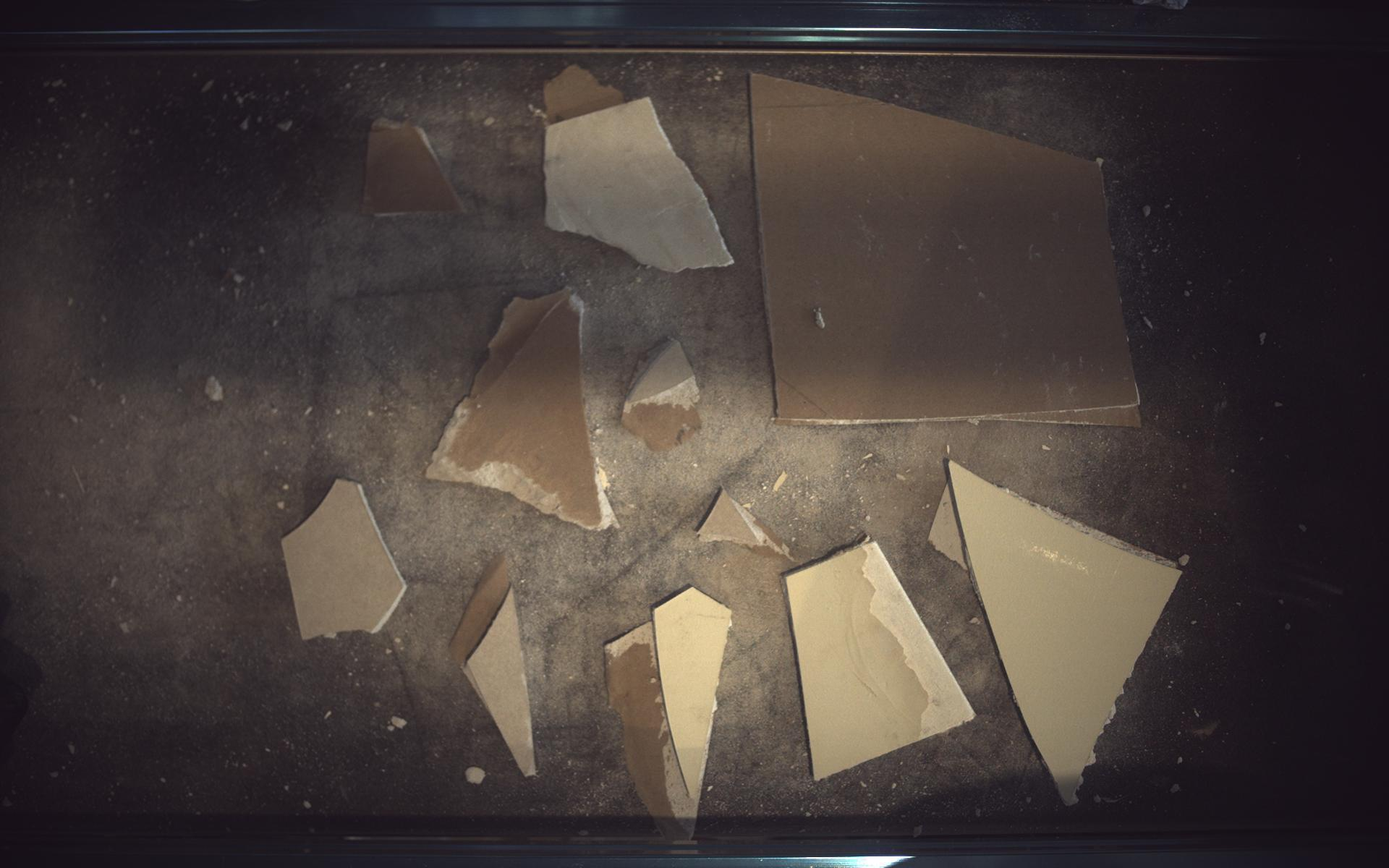gypsum_board: (752, 73, 1143, 426), (930, 461, 1185, 806), (426, 287, 617, 530), (786, 540, 977, 781), (545, 64, 734, 272), (605, 587, 733, 841), (281, 480, 406, 641), (449, 554, 537, 778), (362, 117, 464, 214), (622, 338, 702, 451), (698, 489, 793, 559)
